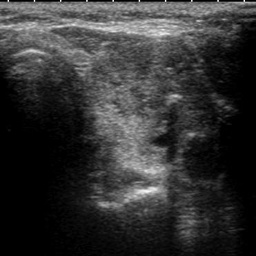mass: (87, 36, 223, 173)
